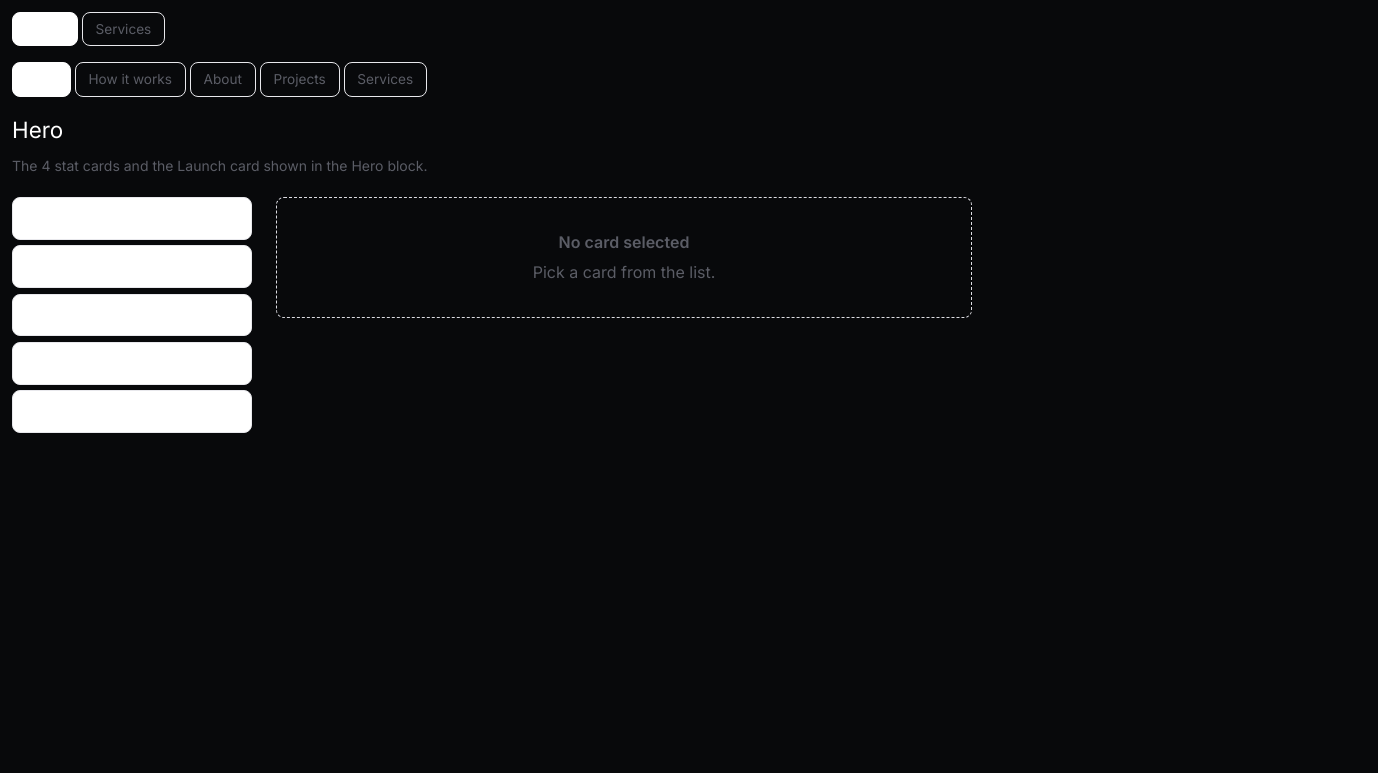
Test: CardsPage › the Services page tab edits the /services groups, without block sub-tabs
Click the 1st tab "Services": (123, 29) x1=82 y1=12 x2=165 y2=46
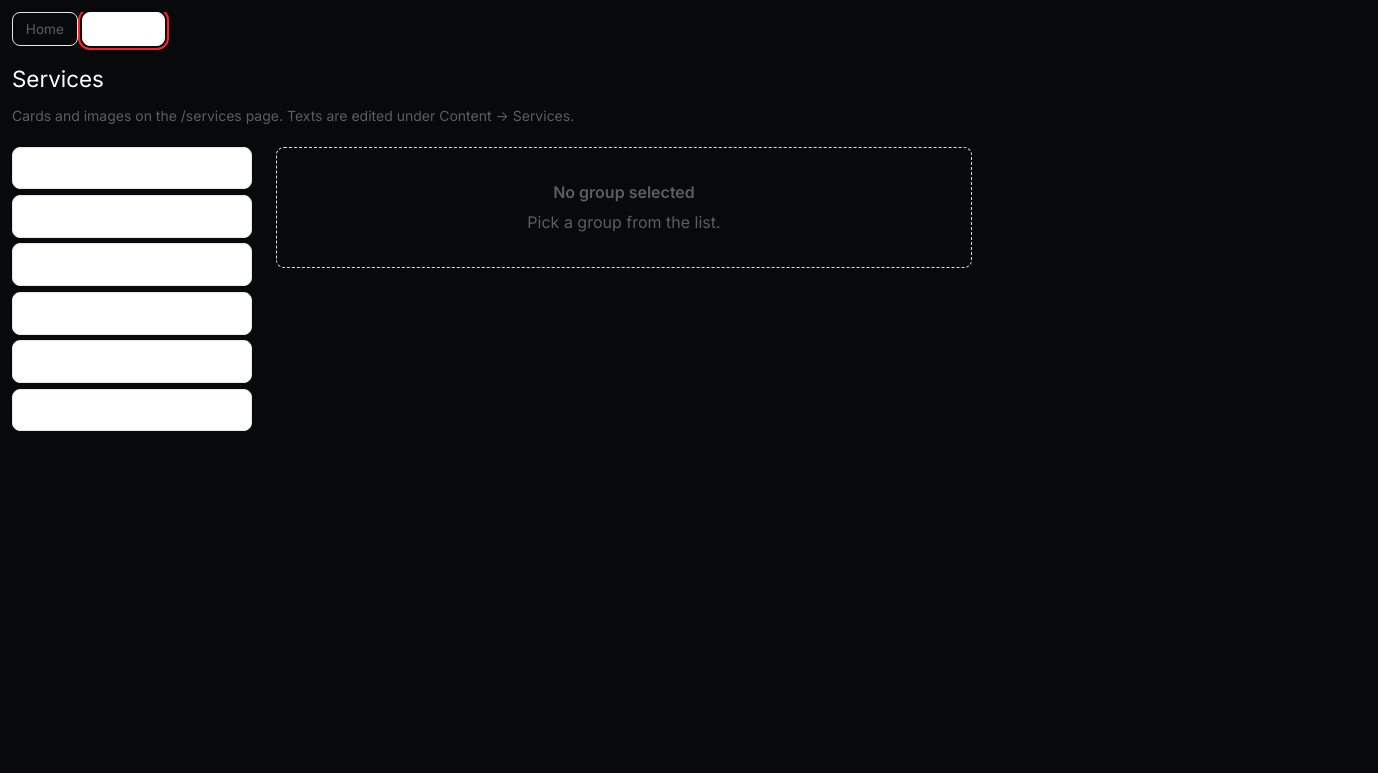
Click the button "Google Ads": (132, 410) x1=12 y1=389 x2=252 y2=431
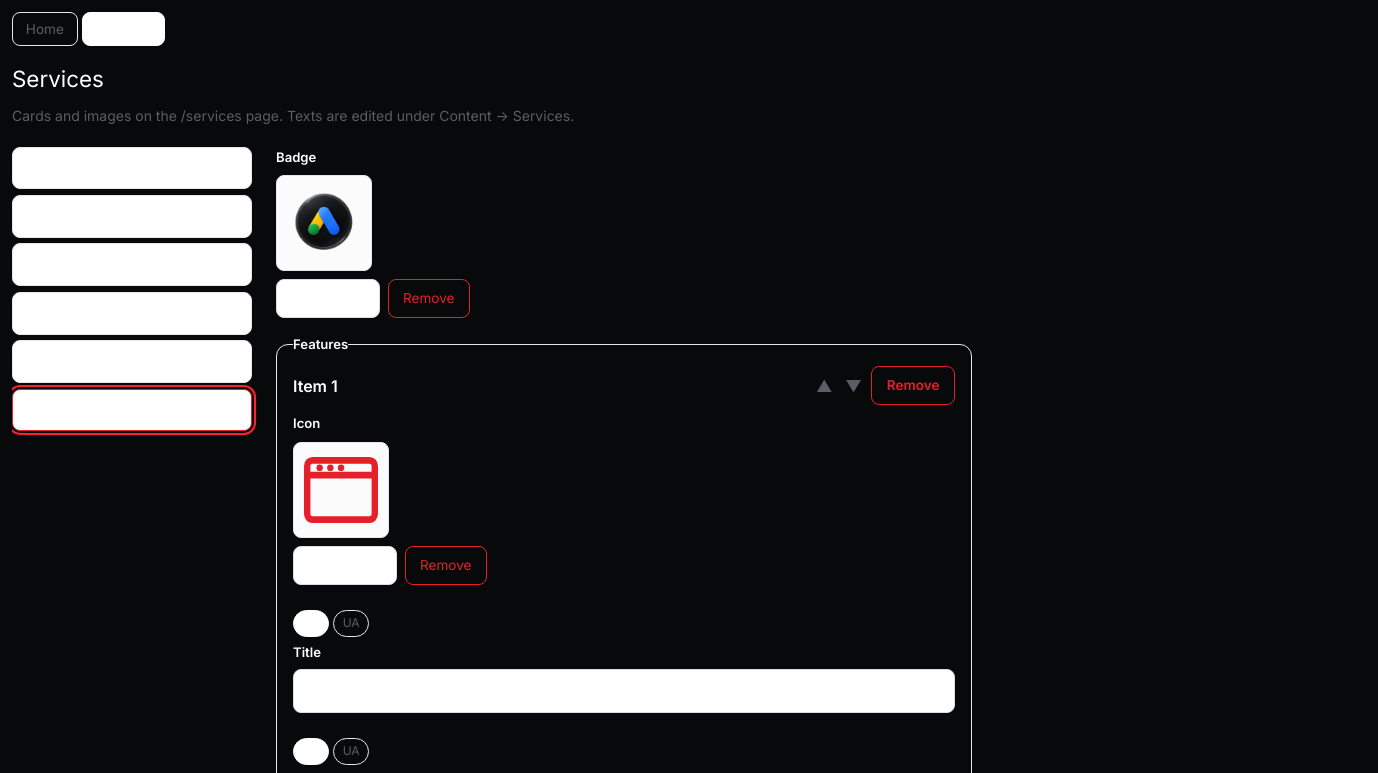
Result: the text "Badge" is shown at x1=276 y1=149 x2=316 y2=165
